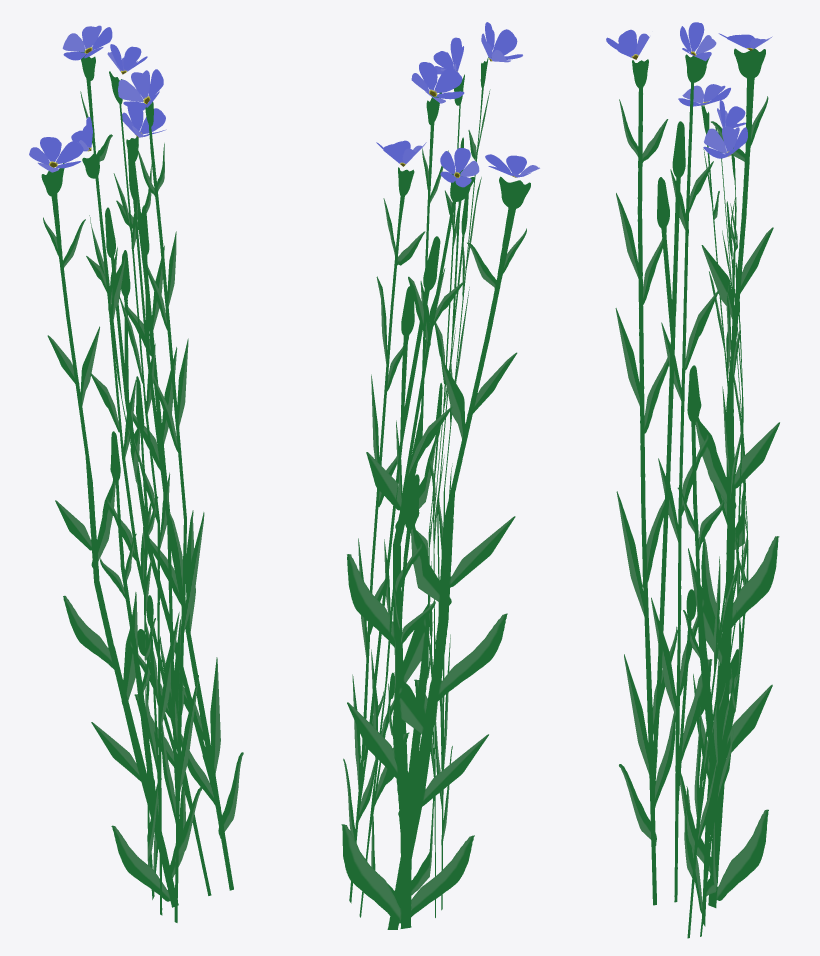
The model's file is PT_Flax_02.fbx.
3 views of the same model, side by side, from view 1: azimuth 30°, elevation 25°; view 2: azimuth 150°, elevation 25°; view 3: azimuth 270°, elevation 25° (orthographic). The views are drawn at different scales.
Visible parts, largest first — view 1: PT_Flax_02_LOD0; view 2: PT_Flax_02_LOD0; view 3: PT_Flax_02_LOD0.
Boxes of the visible parts, x1,y1,x2,y2 form: PT_Flax_02_LOD0: (29, 25, 243, 922); PT_Flax_02_LOD0: (341, 22, 539, 929); PT_Flax_02_LOD0: (606, 22, 779, 938).
Size of what is drawn, in the model's own units: 35.78 by 118 by 25.25.
